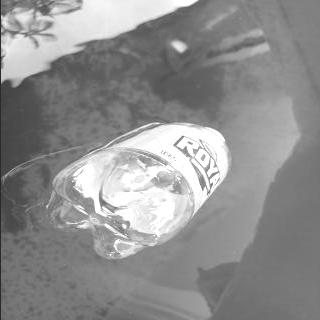bottle: (40, 116, 234, 262)
